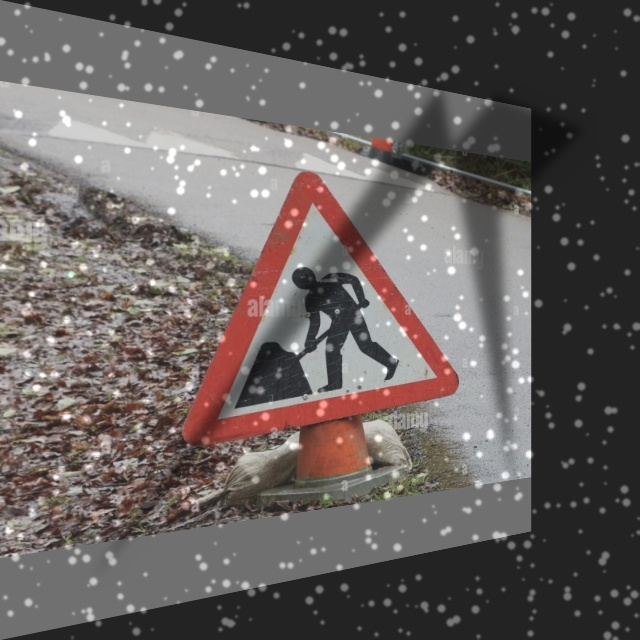Men_at_Work: (186, 161, 467, 438)
